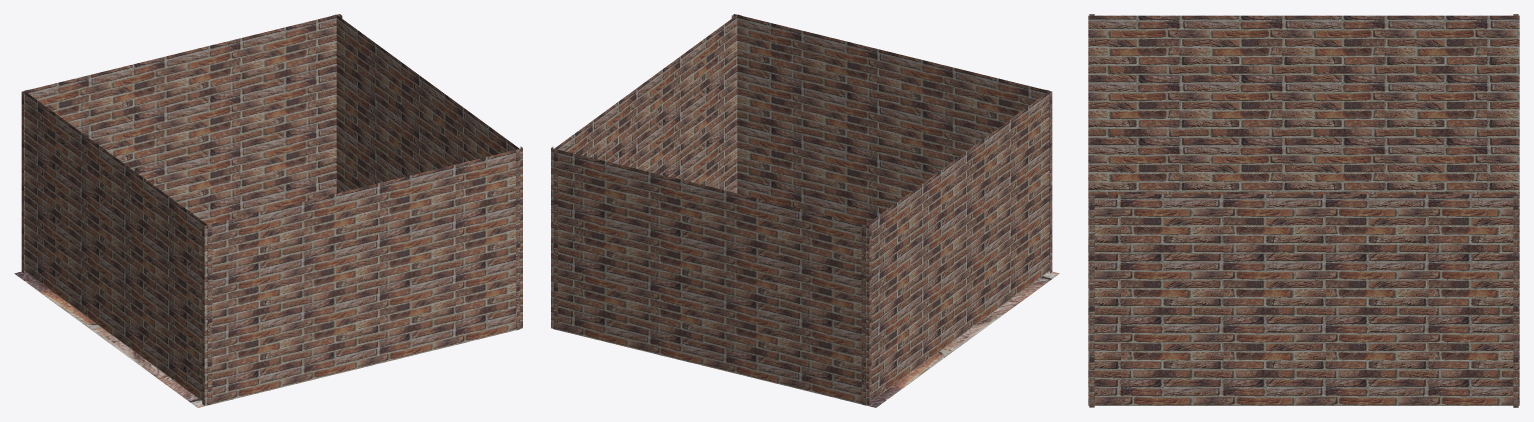
The model's file is Room.fbx.
The picture shows the model from 3 angles, left to right: view 1: azimuth 30°, elevation 25°; view 2: azimuth 150°, elevation 25°; view 3: azimuth 270°, elevation 25°; orthographic projection. The views are drawn at different scales.
Visible parts, largest first — view 1: Room; view 2: Room; view 3: Room.
Boxes of the visible parts, x1,y1,x2,y2 form: Room: (14,14,522,407); Room: (551,14,1059,407); Room: (1088,14,1519,407).
Size of the model in its own units: 589 by 312 by 576.
1 material, 1 textured.
